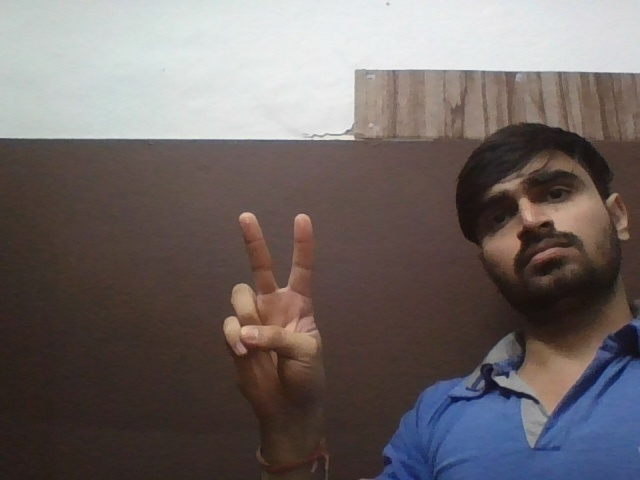V: (217, 204, 359, 415)
